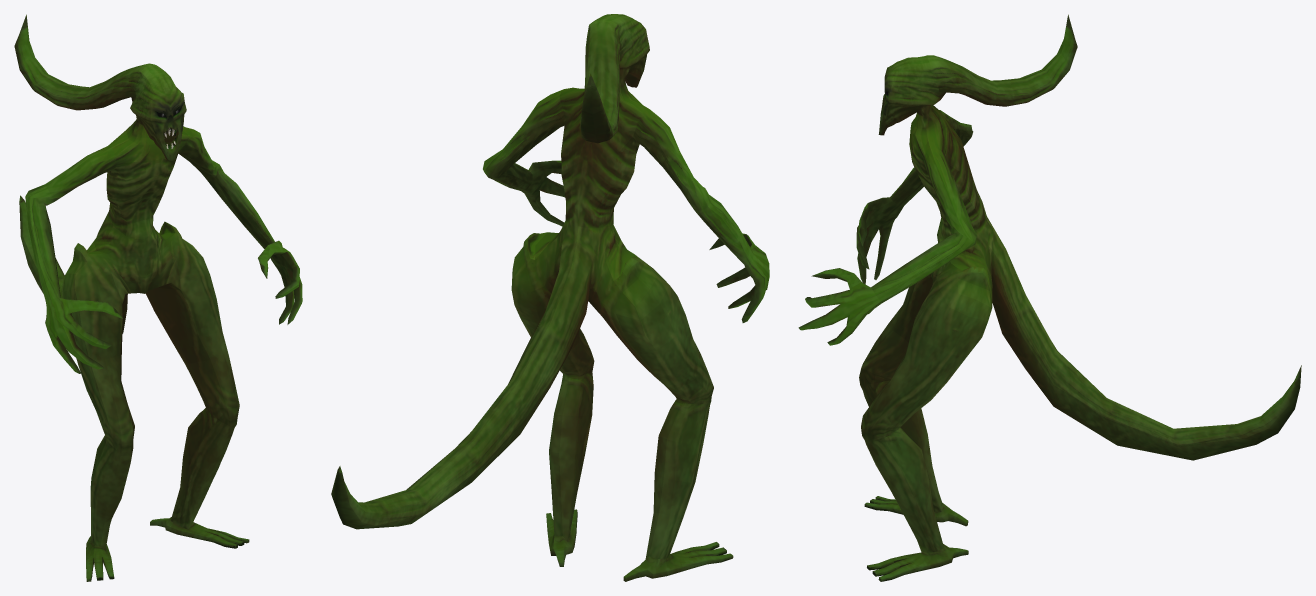
Rendered from Alien_0.glb.
3 renders of one model, left to right at view 1: azimuth 30°, elevation 25°; view 2: azimuth 150°, elevation 25°; view 3: azimuth 270°, elevation 25°, orthographic. The views are drawn at different scales.
Visible parts, largest first — view 1: Alien_0 Model; view 2: Alien_0 Model; view 3: Alien_0 Model.
Part boxes in pixels (<box>): Alien_0 Model: <box>14,14,302,581</box>; Alien_0 Model: <box>331,14,769,581</box>; Alien_0 Model: <box>798,14,1301,581</box>.
Size of the model in its own units: 34.88 by 71.79 by 65.01.
1 material, 1 textured.
